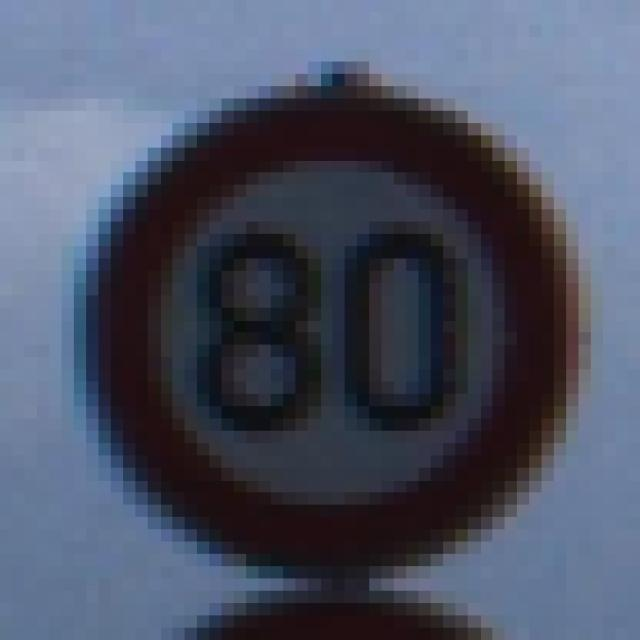forb_speed_over_80: (100, 96, 571, 576)
